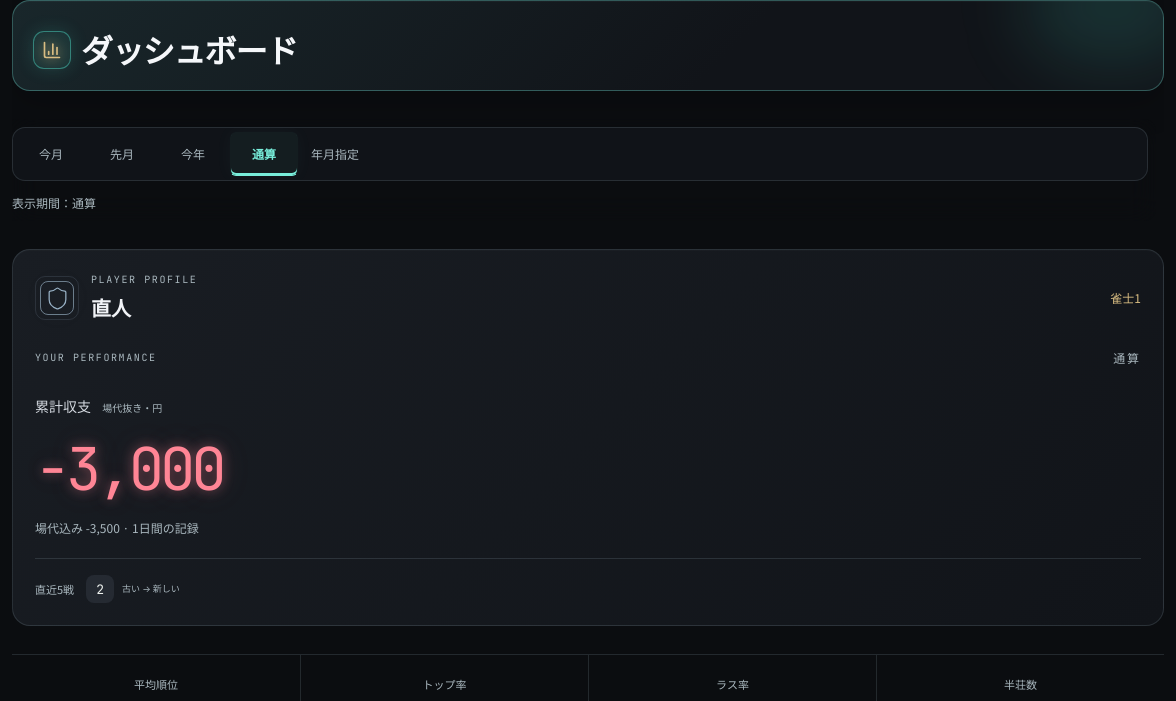
Test: premium league screens › switches personal metrics without changing stored results, including empty seasons
Click the button "年月指定": coordinates (335, 154) [301, 132, 369, 176]
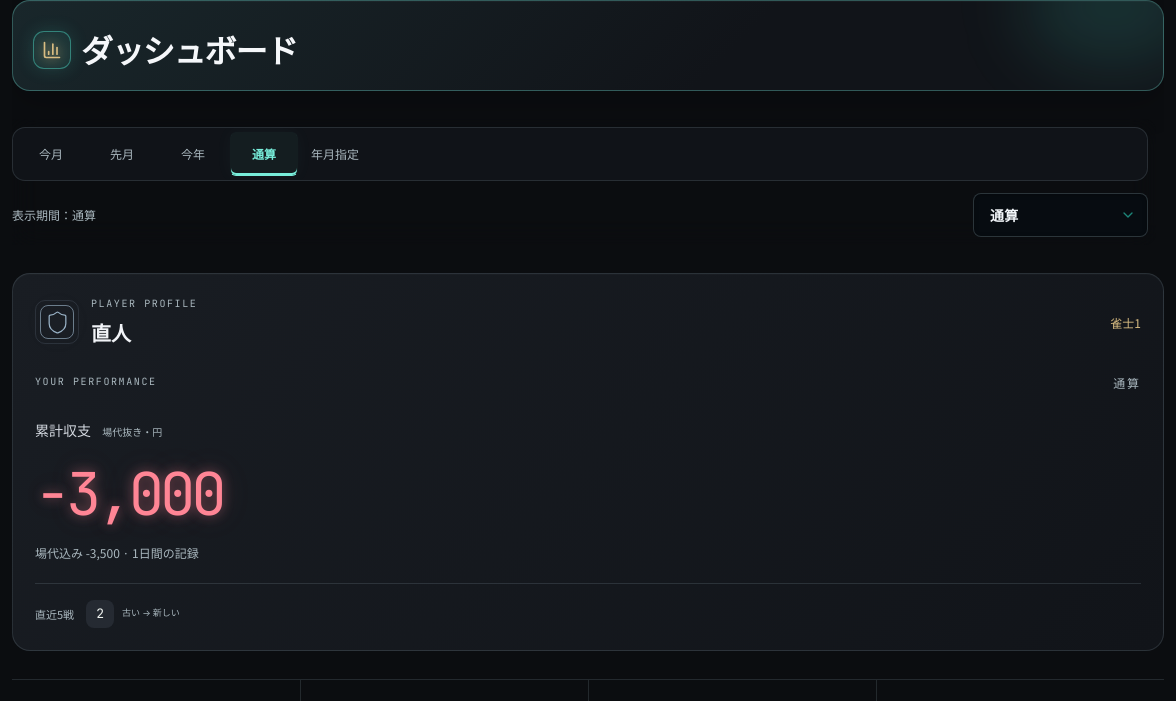
Select "2026年1月" in the dropdown named "シーズンを選択": coordinates (1060, 215) [973, 193, 1148, 237]
(page scrolled)
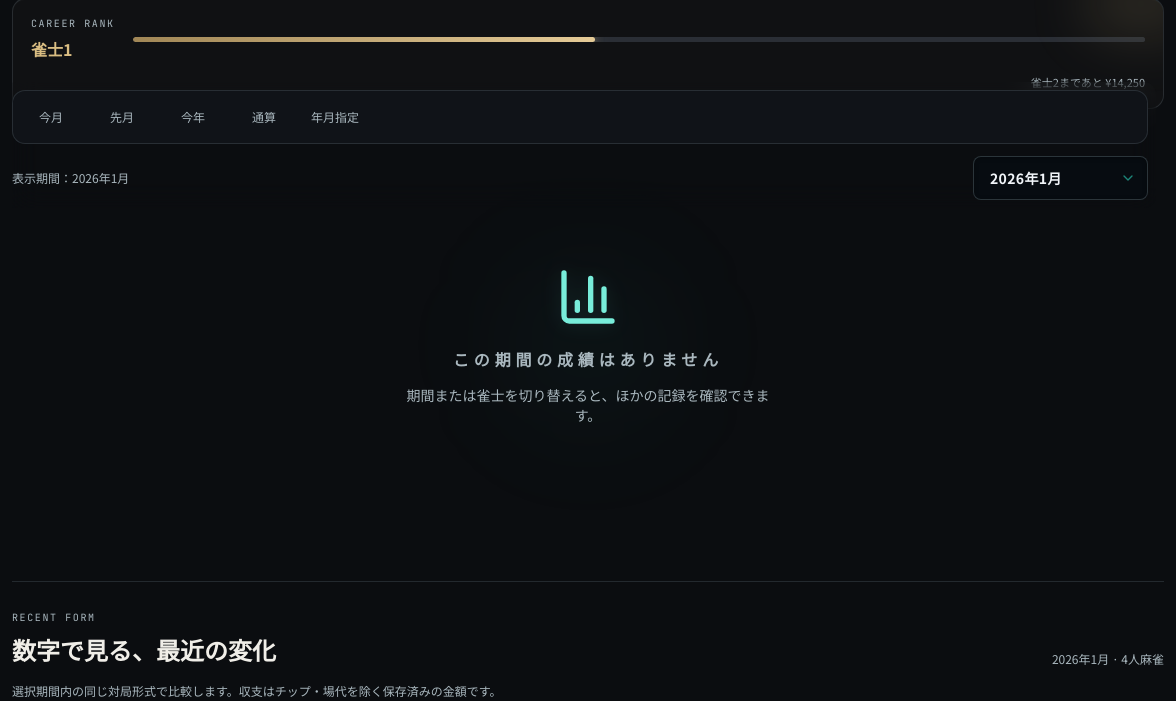
expect the text "この期間の成績はありません" is shown: met, box [453, 349, 723, 373]
